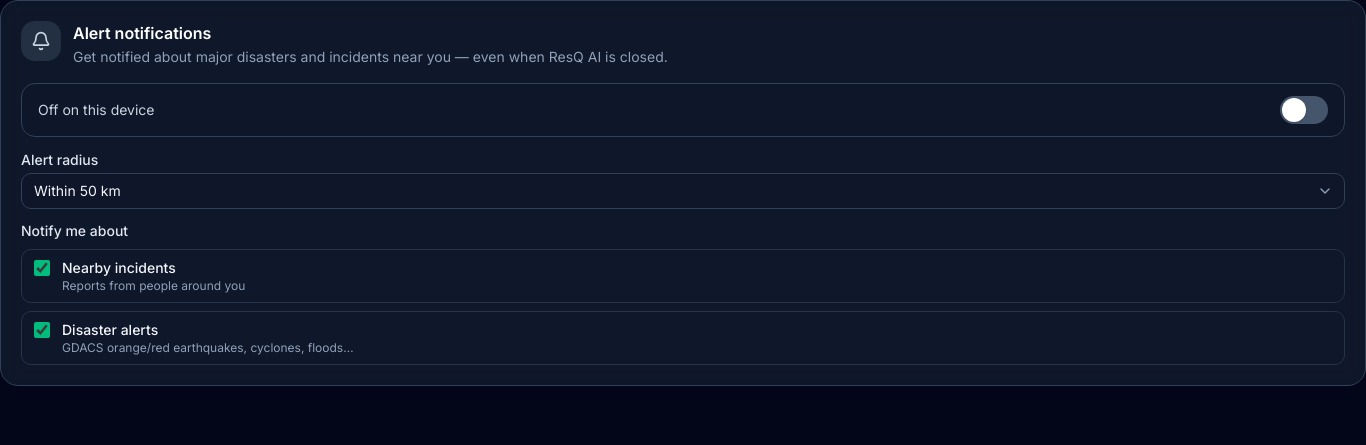
Test: PushToggle › turns notifications on with the given coordinates
The image size is (1366, 445).
Check: the text "Off on this device" is shown, box left=38, top=100, right=154, bottom=120
Click the switch named "Alert notifications" at (1304, 110), box left=1280, top=96, right=1328, bottom=124
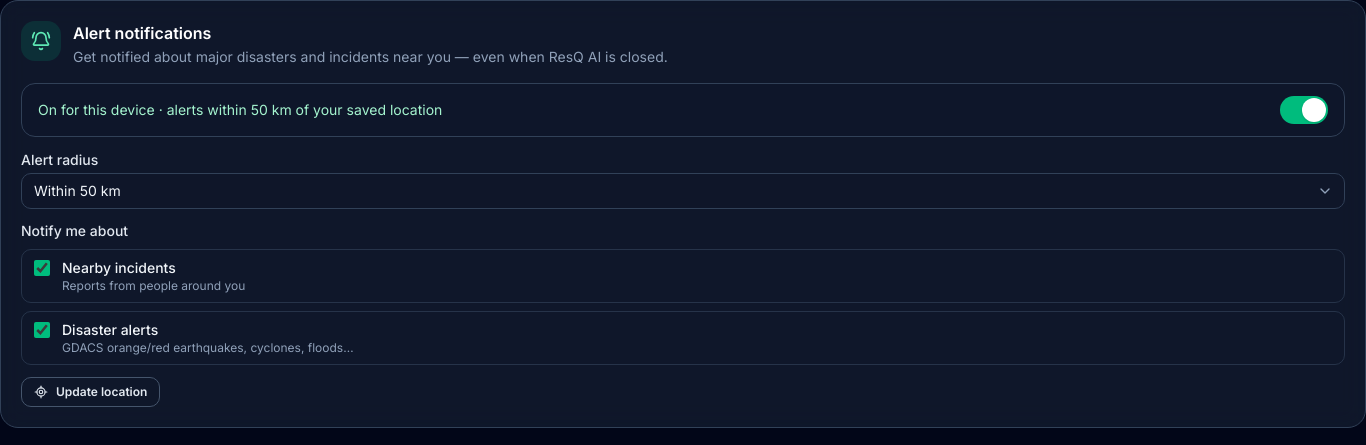
Check: the text "On for this device · alerts within 50 km of your saved location" is shown, box left=38, top=100, right=442, bottom=120
